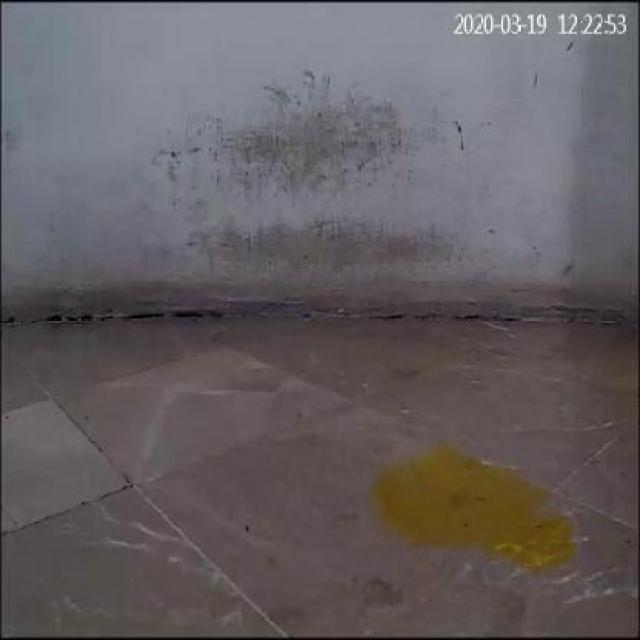spill: (366, 450, 579, 568)
